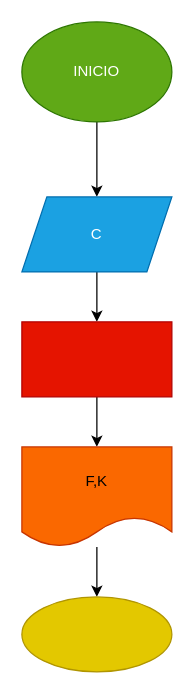
Image size: 194x694. Some labels were removed from this diagram. The shapes that lost their labels are listed below. From the top down, each one's centre as x and y in pixels, then its label:
At pixel 96 359: "K= c+273.15 f=1.8*c+32".
At pixel 96 634: "FIN".
